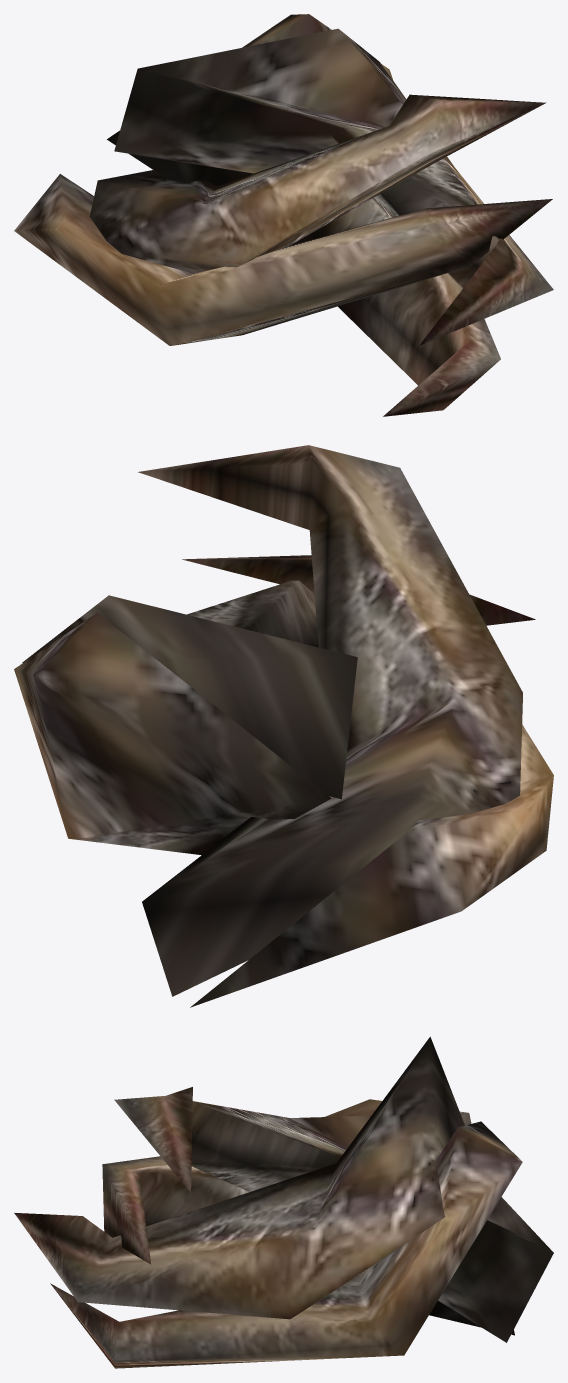
The model's file is ITAT_CRAWLERMANDIBLES.glb.
The picture shows the model from 3 angles, top to bottom: view 1: azimuth 30°, elevation 25°; view 2: azimuth 150°, elevation 25°; view 3: azimuth 270°, elevation 25°; orthographic projection. The views are drawn at different scales.
Parts seen in each view (by area): view 1: Mesh; view 2: Mesh; view 3: Mesh.
Part boxes in pixels (x1,y1,x2,y2): Mesh: (14, 14, 553, 416); Mesh: (14, 445, 553, 1007); Mesh: (14, 1036, 553, 1368).
Bounding box in the file's own units: 0.5134 × 0.3583 × 0.6165.
Materials: 1 (1 with a texture image).
